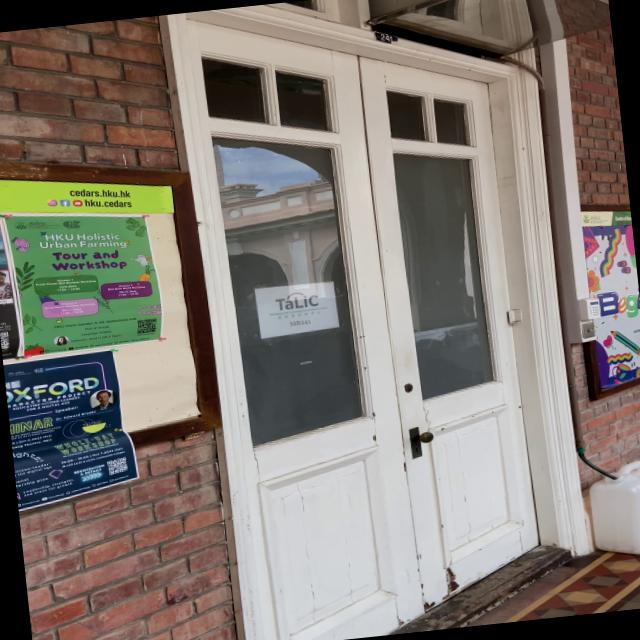room241: (370, 26, 400, 46)
